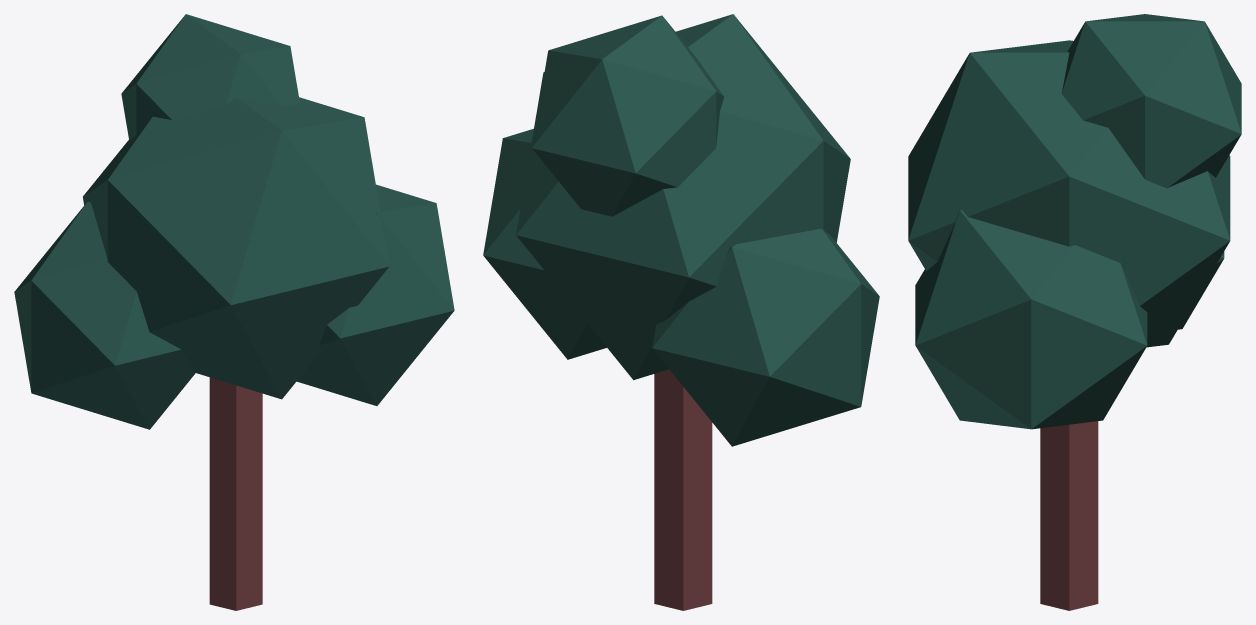
File: tree.glb
3 views of the same model, side by side, from view 1: azimuth 30°, elevation 25°; view 2: azimuth 150°, elevation 25°; view 3: azimuth 270°, elevation 25° (orthographic). The views are drawn at different scales.
Parts seen in each view (by area): view 1: Crown0, Crown1, Crown2, Crown3, Trunk; view 2: Crown0, Crown1, Crown3, Trunk, Crown2; view 3: Crown0, Crown2, Crown3, Trunk.
Part boxes in pixels (x1,y1,x2,y2): Crown0: (83,97,389,399); Crown1: (14,201,195,429); Crown2: (297,184,454,405); Crown3: (121,14,299,140); Trunk: (209,377,262,610); Crown0: (516,14,850,380); Crown1: (652,228,879,446); Crown3: (532,15,723,216); Trunk: (654,369,712,610); Crown2: (483,128,606,359); Crown0: (908,40,1230,347); Crown2: (915,210,1147,429); Crown3: (1061,14,1241,188); Trunk: (1040,421,1098,610).
Size of the model in its own units: 3.04 by 4.24 by 2.2.
